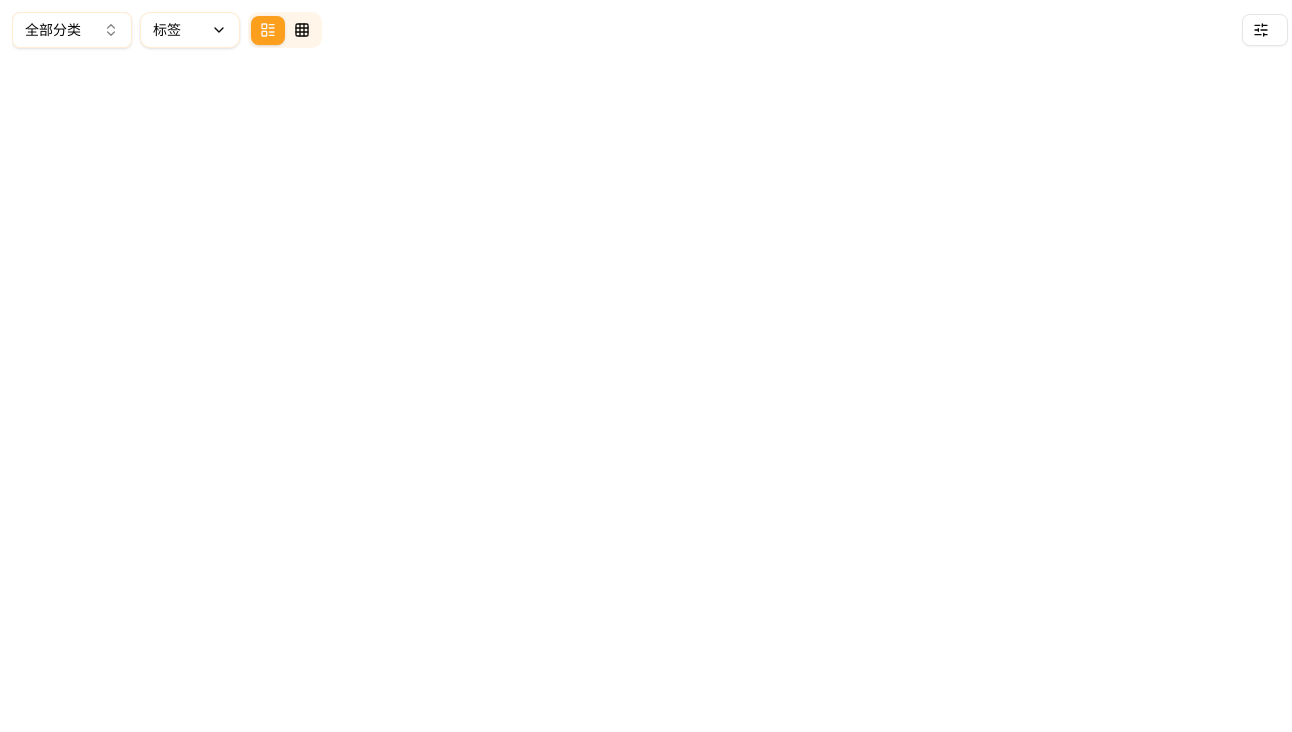
Test case: ThingHeader › 标签筛选 › 应该在点击标签菜单外部时关闭标签菜单
Click the button "标签" at (190, 30), box [140,12,240,48]
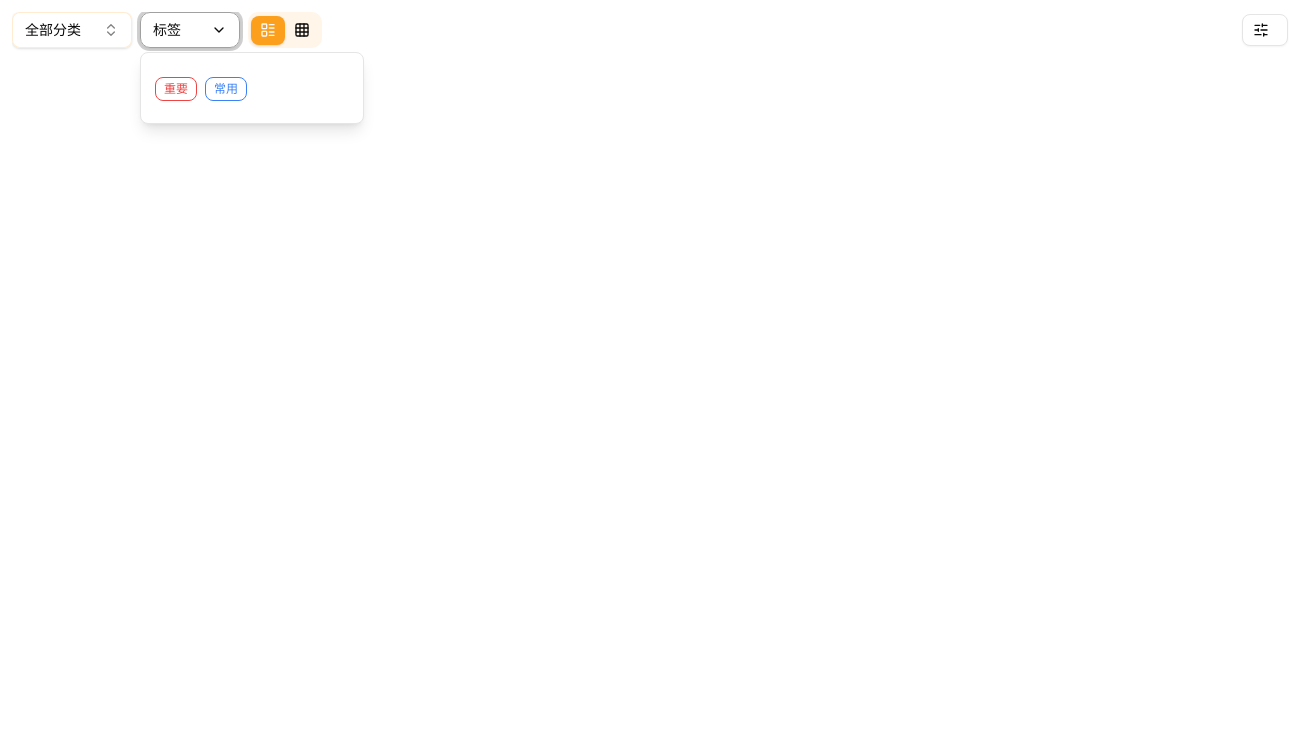
Now the text "重要" is shown, box [155,77,197,101]
Press the mouse on the element showing "全部分类 标签 重要 常用" at (652, 372), box [12,12,1291,731]
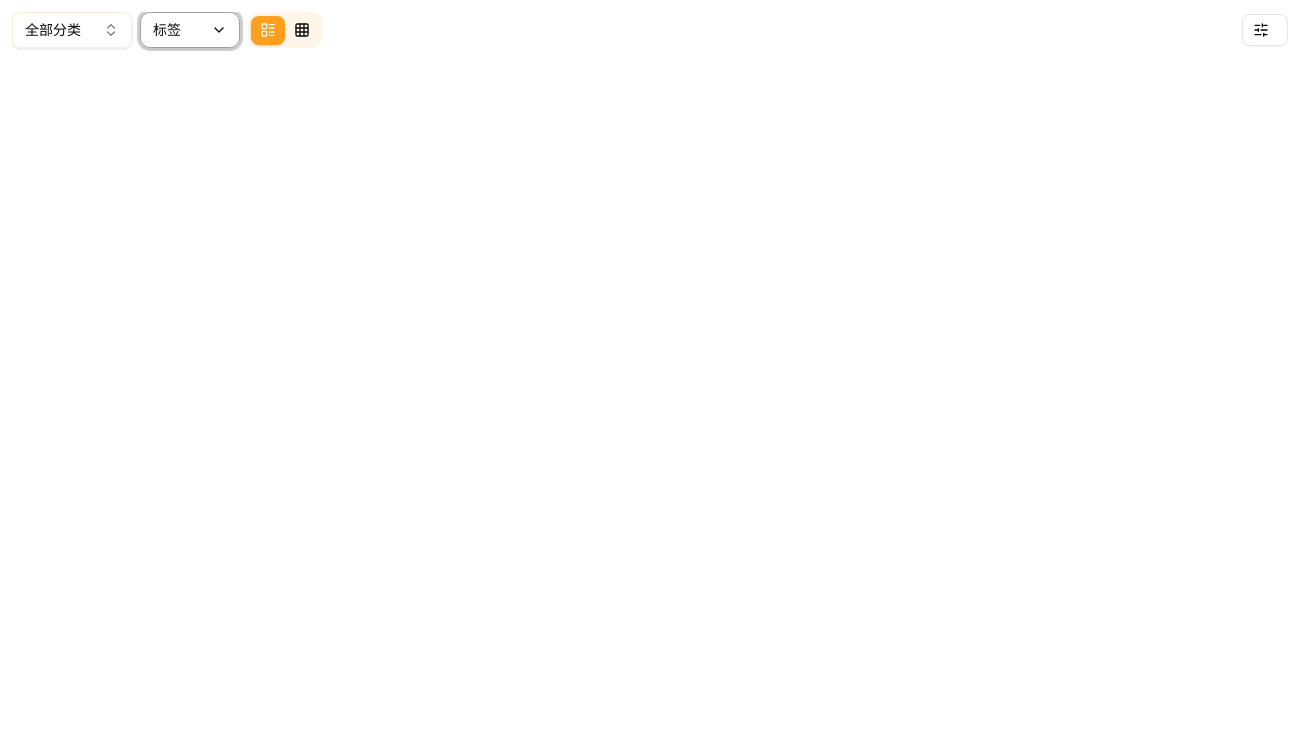
Now the text "重要" is gone
